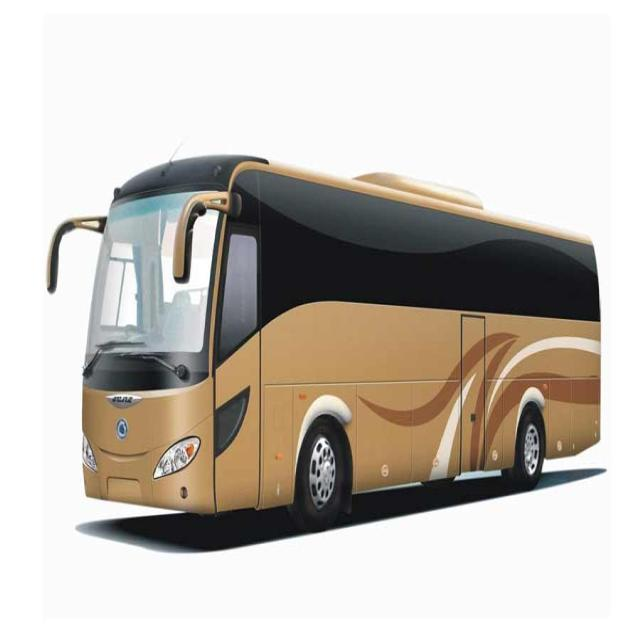bus: (48, 156, 600, 530)
